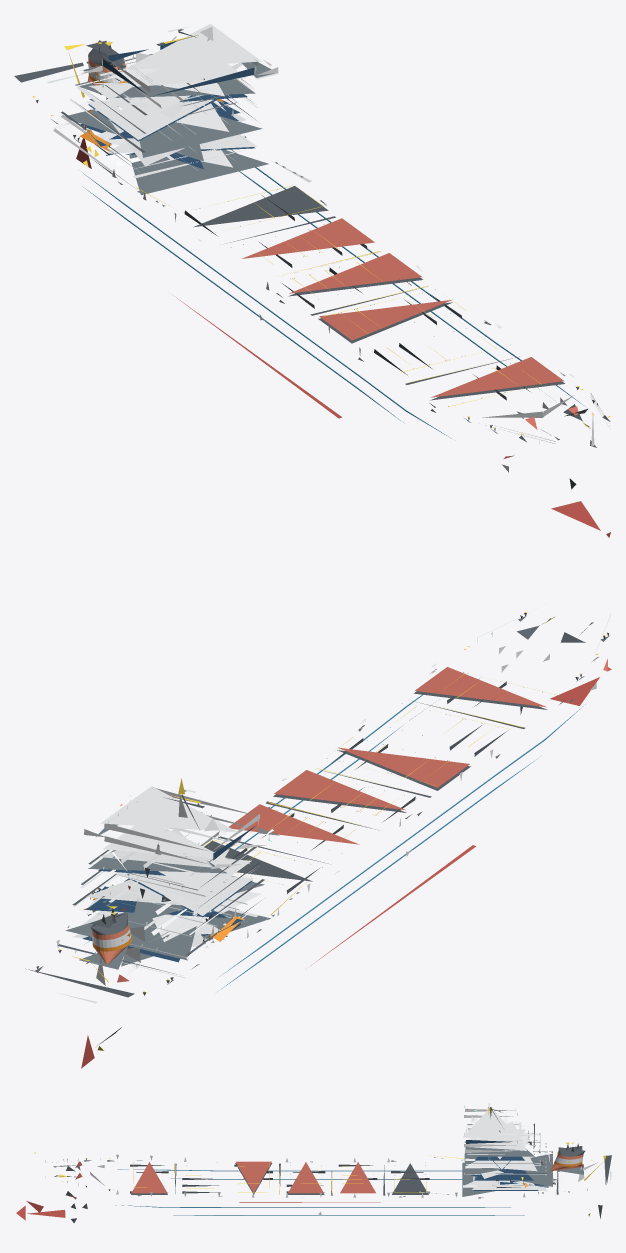
Rendered from ship_17.glb.
3 renders of one model, top to bottom at view 1: azimuth 30°, elevation 25°; view 2: azimuth 150°, elevation 25°; view 3: azimuth 270°, elevation 25°, orthographic. The views are drawn at different scales.
Parts seen in each view (by area): view 1: TrueHelm_Ship_17; view 2: TrueHelm_Ship_17; view 3: TrueHelm_Ship_17.
Boxes of the visible parts, left/top/right/bottom form: TrueHelm_Ship_17: left=14, top=23, right=610, bottom=537; TrueHelm_Ship_17: left=25, top=603, right=611, bottom=1068; TrueHelm_Ship_17: left=16, top=1103, right=611, bottom=1222.
Size of the model in its own units: 0.132 by 0.1816 by 0.8117.
